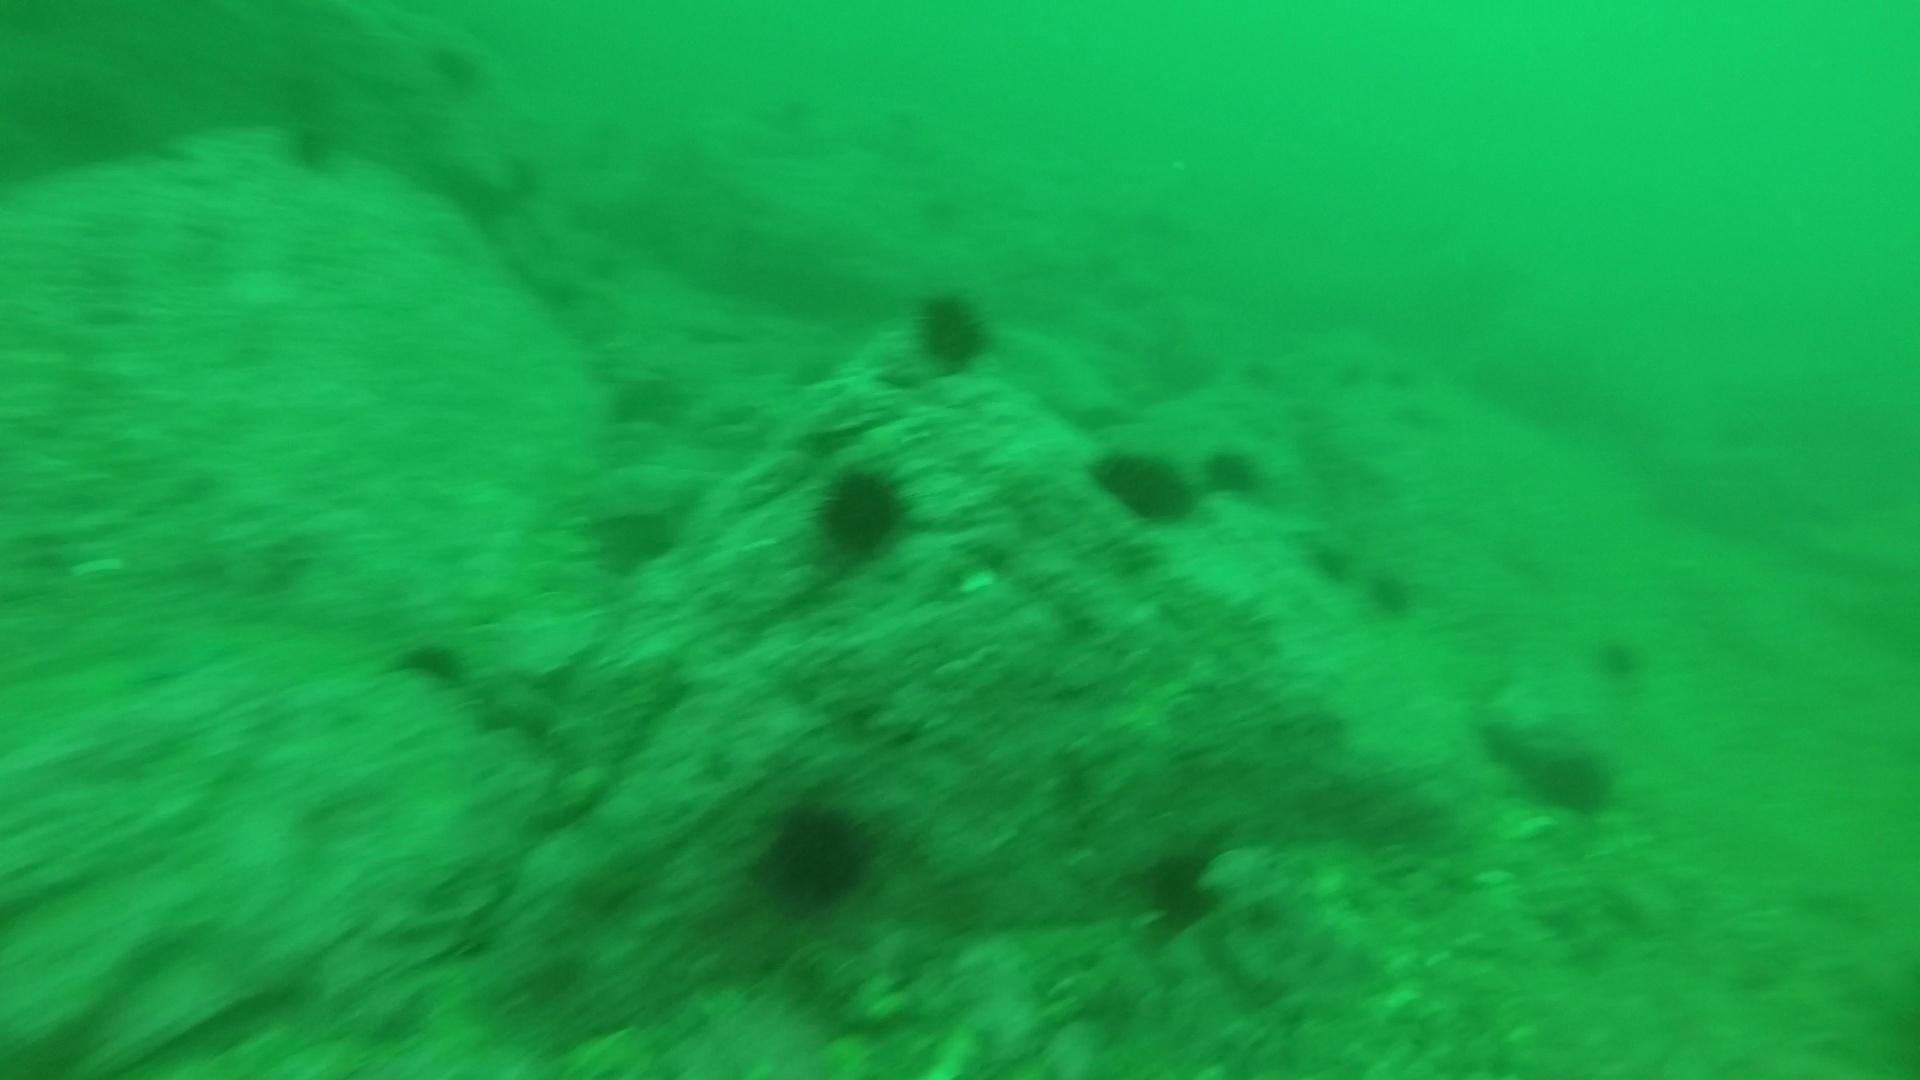echinus: (754, 793, 881, 911), (806, 458, 918, 566), (1129, 836, 1229, 935), (1089, 440, 1201, 529), (1516, 736, 1619, 820), (905, 284, 997, 376), (274, 109, 348, 178), (1196, 439, 1269, 506), (392, 632, 469, 694), (1356, 560, 1422, 621), (1294, 539, 1360, 599), (1586, 628, 1652, 686), (429, 38, 481, 83), (1385, 392, 1433, 433), (1389, 351, 1437, 392), (1224, 349, 1273, 390), (914, 195, 963, 236), (1325, 348, 1373, 389), (874, 94, 922, 135), (774, 88, 822, 129)
